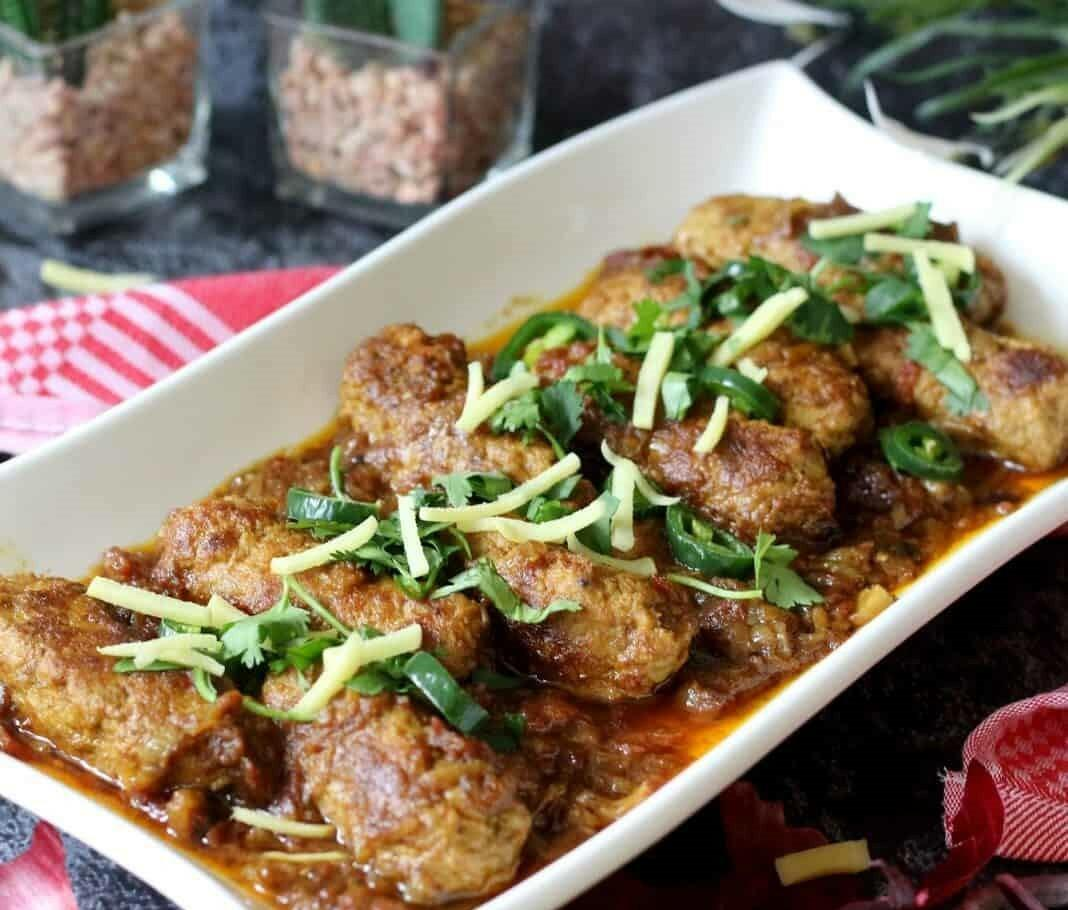Kebab: (258, 656, 532, 903), (153, 500, 489, 685), (0, 574, 254, 816), (529, 341, 837, 540), (595, 240, 869, 462), (464, 504, 697, 701), (674, 192, 1007, 327), (340, 321, 555, 503), (855, 322, 1068, 474)
